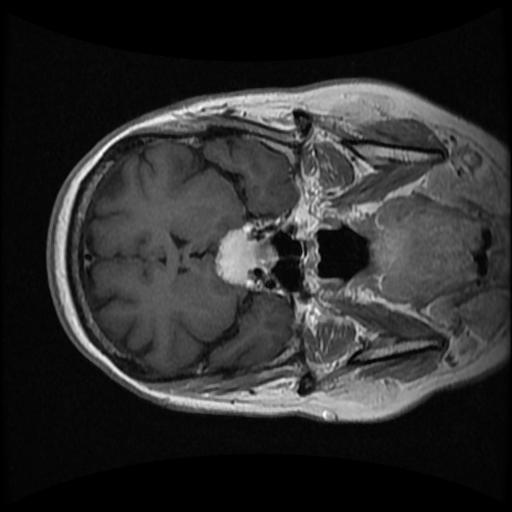meningioma: (213, 224, 277, 288)
